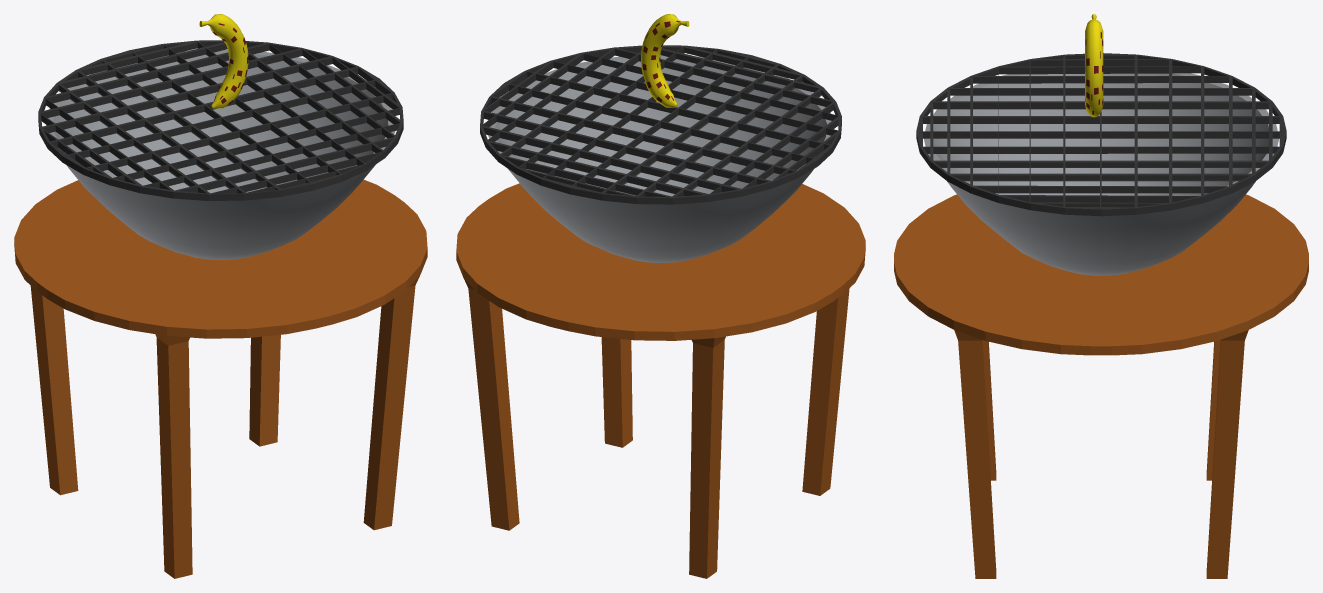
The model's file is Bole stand.fbx.
3 renders of one model, left to right at view 1: azimuth 30°, elevation 25°; view 2: azimuth 150°, elevation 25°; view 3: azimuth 270°, elevation 25°, orthographic. The views are drawn at different scales.
Visible parts, largest first — view 1: Table, Net, Pan, Torus.001; view 2: Table, Net, Pan, Torus.001; view 3: Table, Net, Pan, Torus.001.
Boxes of the visible parts, x1,y1,x2,y2 form: Table: [14, 179, 427, 578]; Net: [38, 40, 403, 200]; Pan: [46, 49, 395, 259]; Torus.001: [199, 14, 248, 108]; Table: [456, 183, 865, 578]; Net: [480, 45, 841, 204]; Pan: [488, 55, 831, 262]; Torus.001: [641, 14, 689, 107]; Table: [894, 194, 1308, 578]; Net: [916, 53, 1286, 216]; Pan: [924, 73, 1278, 275]; Torus.001: [1085, 14, 1103, 117].
Bounding box in the file's own units: 308 × 409 × 306.
